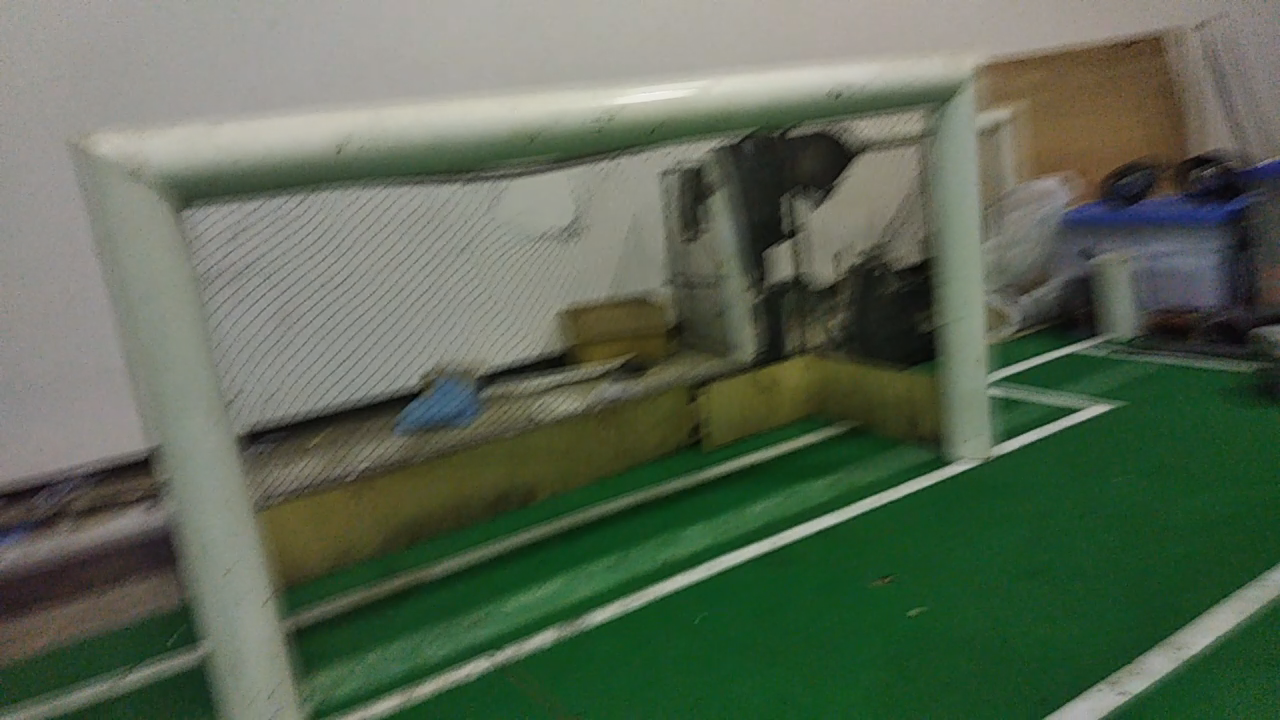gawang: (47, 42, 1000, 719)
